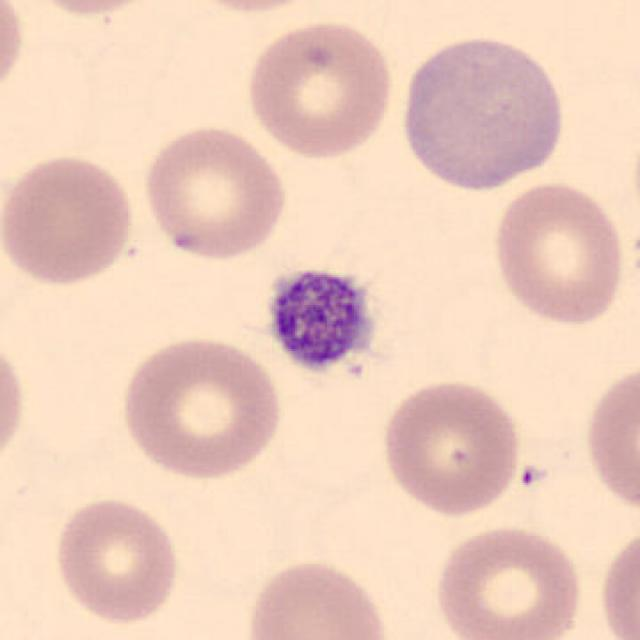Platelets: (260, 261, 382, 379)
RBC: (394, 32, 570, 194), (116, 332, 286, 483), (242, 16, 398, 162), (137, 120, 291, 263), (377, 374, 526, 520), (487, 176, 628, 330), (0, 148, 139, 289), (430, 522, 587, 640), (50, 493, 185, 628), (240, 555, 396, 640), (579, 359, 640, 518), (595, 520, 640, 640), (0, 330, 30, 478), (0, 0, 28, 106), (14, 0, 169, 18), (171, 0, 329, 16)
